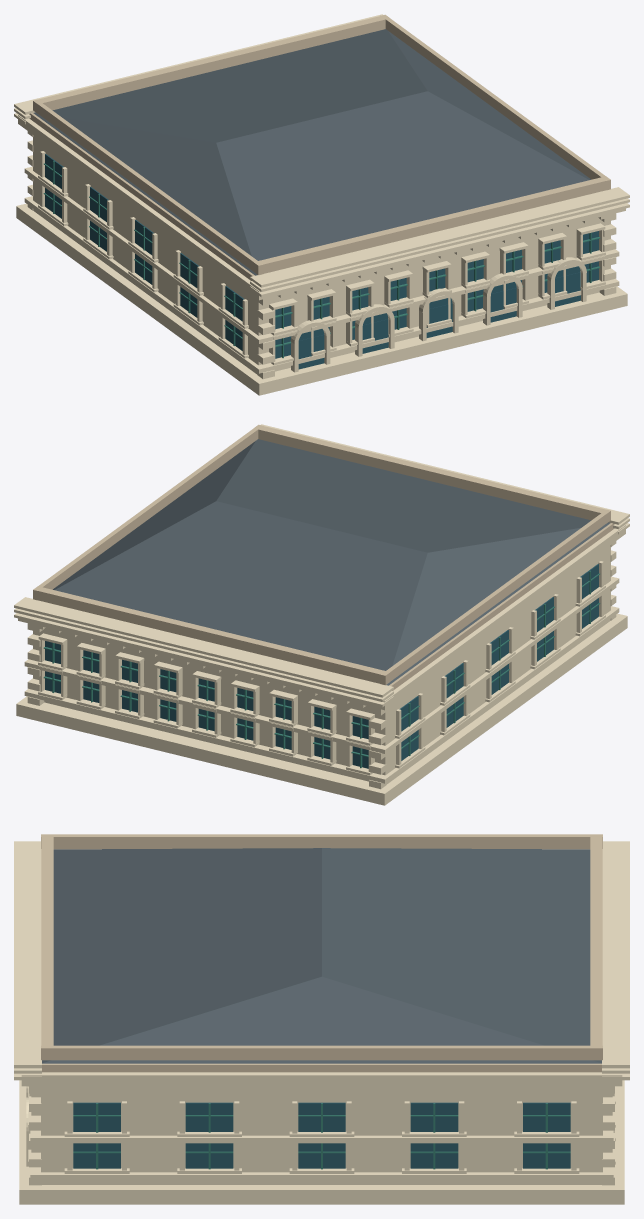
File: british-consulate.glb
3 views of the same model, one above another, from view 1: azimuth 30°, elevation 25°; view 2: azimuth 150°, elevation 25°; view 3: azimuth 270°, elevation 25° (orthographic). The views are drawn at different scales.
Visible parts, largest first — view 1: british-consulate; view 2: british-consulate; view 3: british-consulate.
Part boxes in pixels (x1,y1,x2,y2): british-consulate: [14, 14, 629, 395]; british-consulate: [14, 424, 629, 805]; british-consulate: [14, 834, 629, 1204].
Size of the model in its own units: 39.94 by 15 by 46.43.
